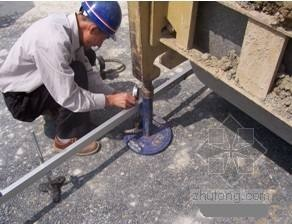blue: (78, 2, 121, 49)
